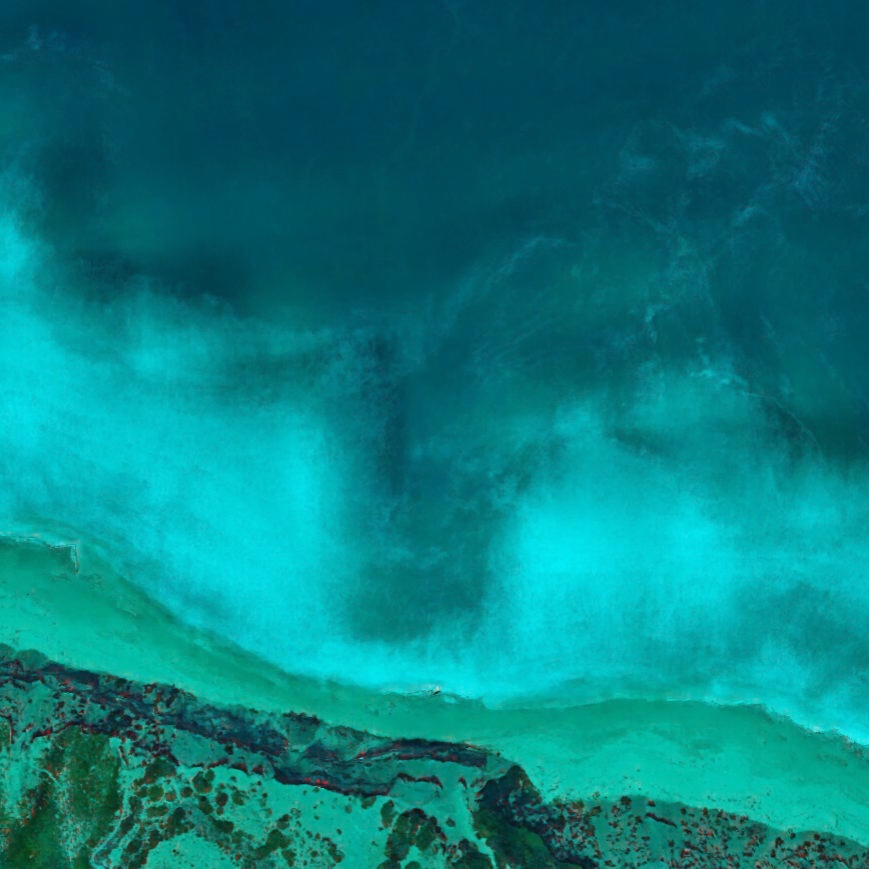rip_current: (251, 304, 567, 660)
